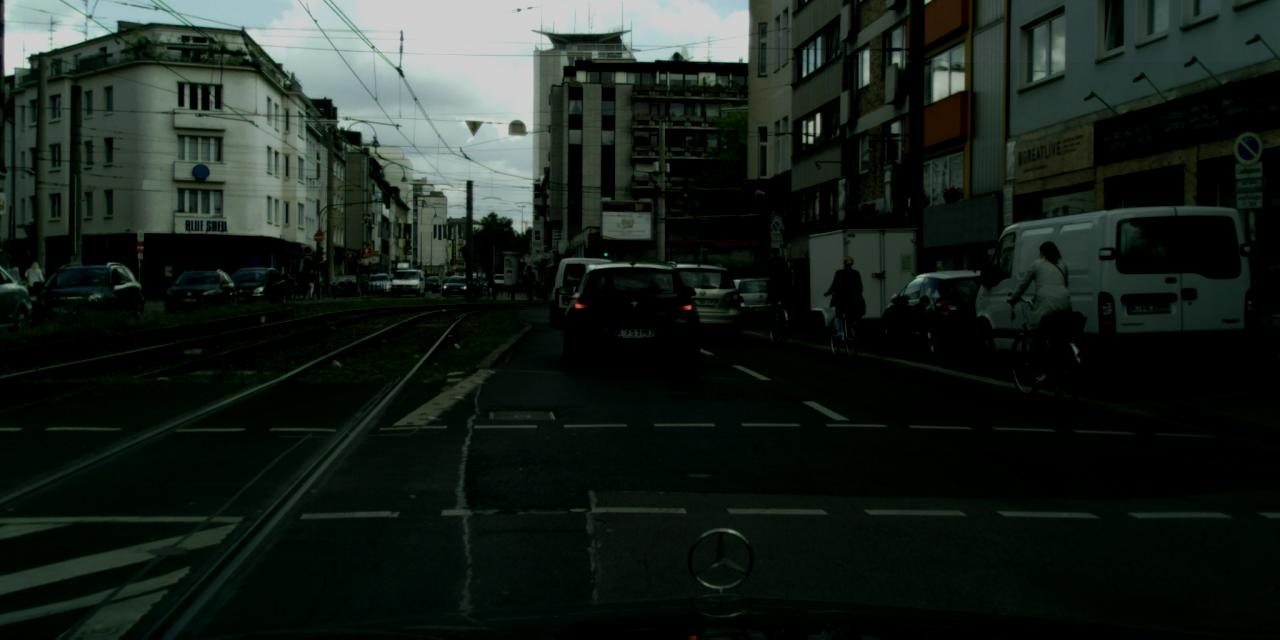ped: (1022, 240, 1075, 370), (830, 255, 863, 336), (765, 256, 794, 329), (26, 261, 46, 308), (283, 268, 293, 294)
